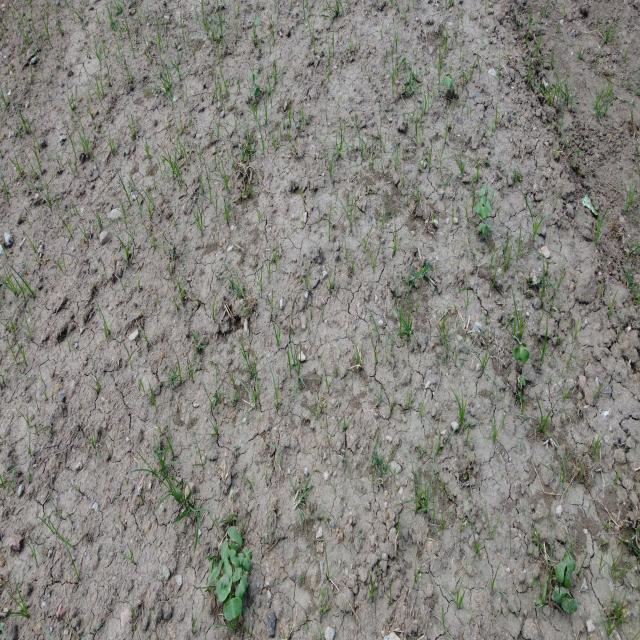seedling_s3: (223, 597, 242, 621), (555, 553, 569, 583), (218, 576, 233, 602), (235, 574, 248, 600), (216, 573, 230, 595), (211, 559, 224, 582), (227, 526, 242, 545), (561, 598, 578, 613), (237, 553, 251, 571), (513, 347, 529, 362), (565, 559, 573, 588), (222, 556, 232, 579), (475, 203, 488, 219), (229, 549, 239, 569), (220, 538, 229, 560), (567, 550, 576, 571), (232, 567, 243, 582), (478, 222, 489, 235), (242, 547, 252, 560), (553, 585, 560, 603), (443, 76, 453, 88), (479, 183, 486, 197), (488, 184, 494, 199), (560, 586, 566, 601), (251, 87, 260, 96), (486, 198, 491, 213), (254, 16, 260, 26), (478, 195, 484, 205), (254, 69, 259, 79), (249, 72, 253, 82)
